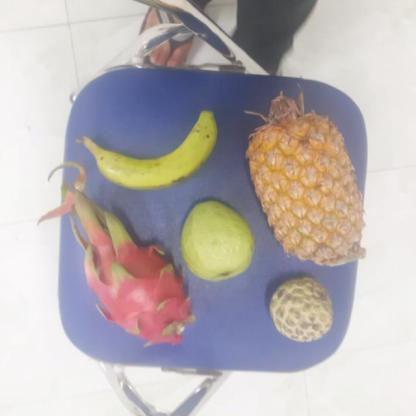annona: (267, 278, 333, 341)
banana: (79, 114, 216, 192)
guava: (178, 201, 255, 281)
pineapple: (247, 110, 362, 266)
pitaya: (83, 238, 191, 344)
